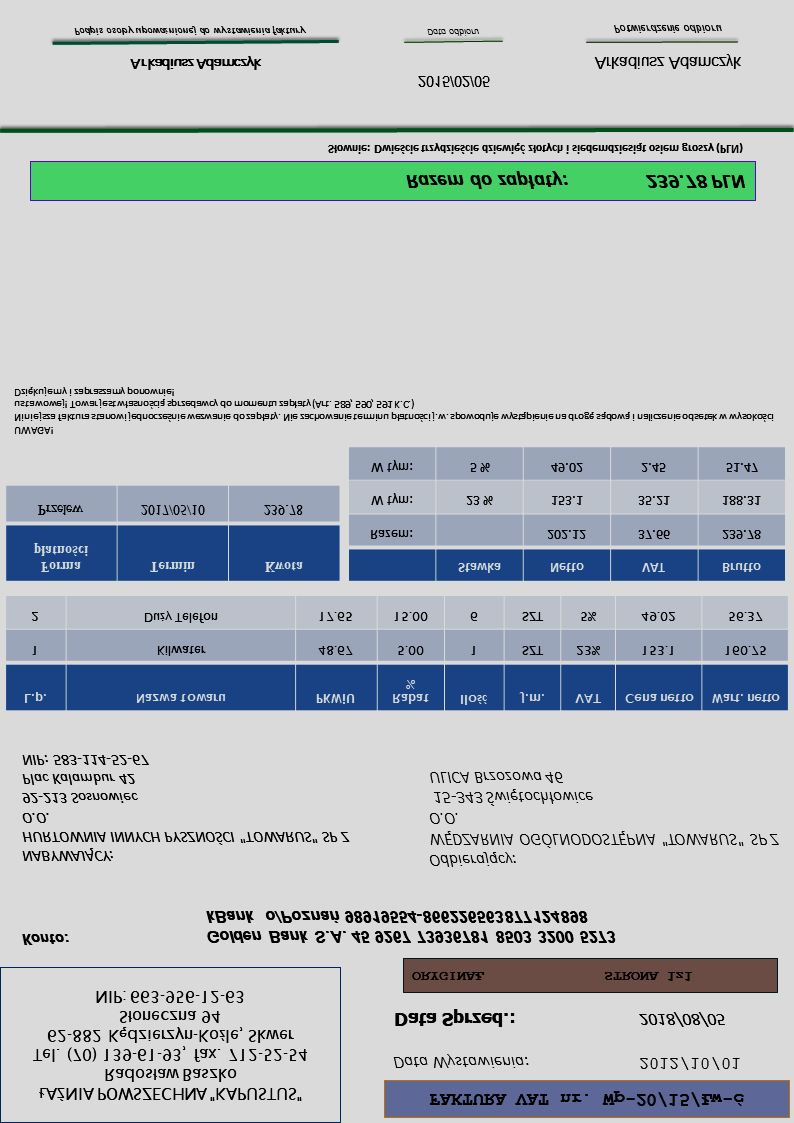Table: (4, 593, 789, 712), (347, 447, 786, 583), (3, 484, 341, 583)
TextBox: (11, 385, 775, 438), (19, 752, 353, 866), (426, 768, 780, 870), (30, 988, 310, 1105), (203, 907, 618, 946), (403, 170, 748, 193), (325, 141, 743, 158), (427, 1089, 748, 1111), (408, 967, 694, 987), (71, 23, 309, 40), (592, 51, 744, 72), (392, 1007, 517, 1031), (391, 1051, 532, 1072), (128, 54, 264, 73), (637, 1052, 744, 1072), (610, 22, 723, 37), (637, 1011, 728, 1029), (415, 73, 491, 91), (20, 930, 69, 949), (424, 27, 479, 39)
